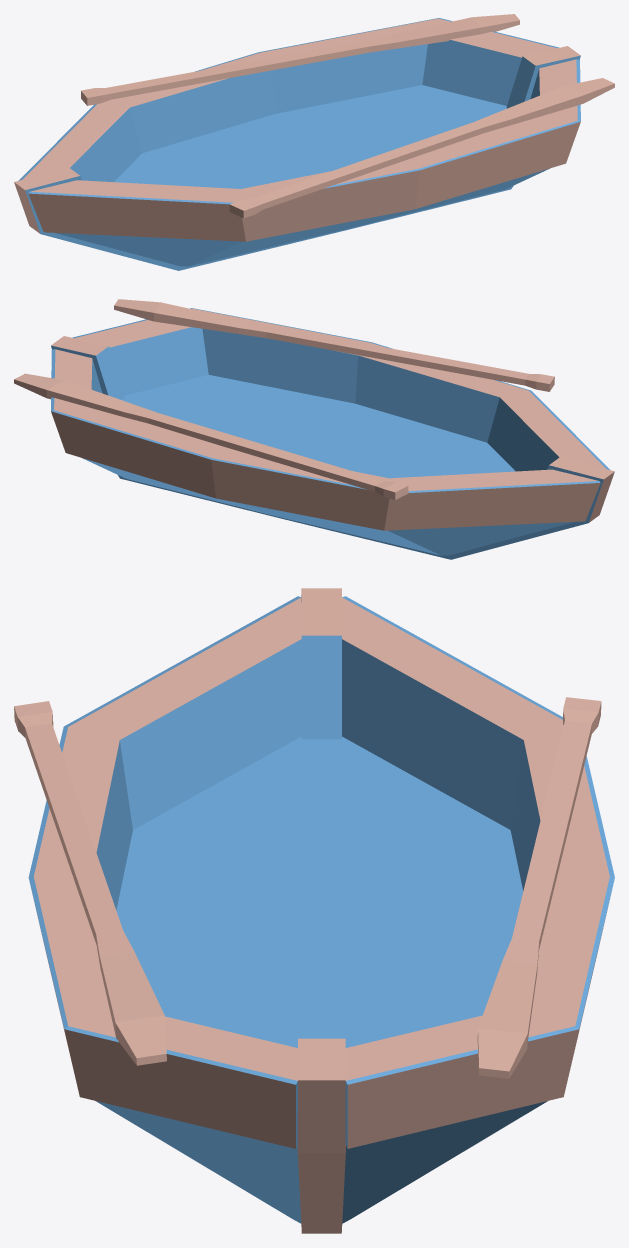
File: coloringguys_boat.fbx
3 views of the same model, one above another, from view 1: azimuth 30°, elevation 25°; view 2: azimuth 150°, elevation 25°; view 3: azimuth 270°, elevation 25° (orthographic). The views are drawn at different scales.
Visible parts, largest first — view 1: Куб.001; view 2: Куб.001; view 3: Куб.001.
Part boxes in pixels (bbox=[...]): Куб.001: bbox=[14, 14, 614, 270]; Куб.001: bbox=[14, 299, 614, 559]; Куб.001: bbox=[14, 588, 614, 1233].
Bounding box in the file's own units: 2233 × 492 × 1153.
